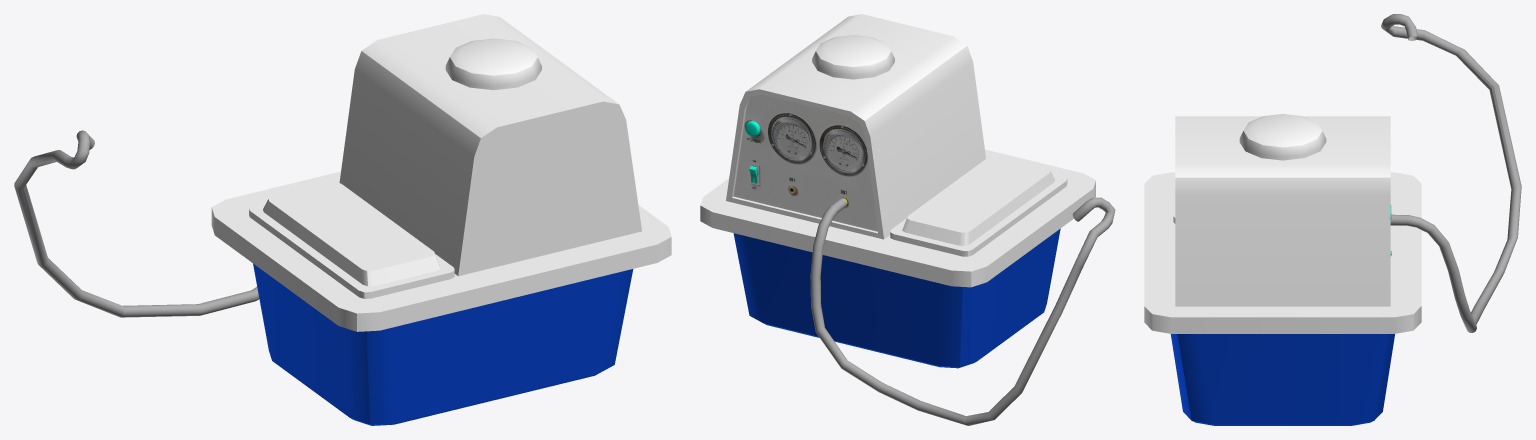
Rendered from beng.fbx.
3 renders of one model, left to right at view 1: azimuth 30°, elevation 25°; view 2: azimuth 150°, elevation 25°; view 3: azimuth 270°, elevation 25°, orthographic. The views are drawn at different scales.
Visible parts, largest first — view 1: beng1, beng4, beng3, gaun2, beng2; view 2: beng1, beng4, beng3, gaun2, beng2; view 3: beng1, beng4, gaun2, beng2.
Boxes of the visible parts, x1,y1,x2,y2 form: beng1: [339, 14, 641, 276]; beng4: [211, 171, 671, 425]; beng3: [249, 182, 454, 298]; gaun2: [14, 130, 259, 317]; beng2: [445, 38, 541, 90]; beng1: [726, 14, 985, 239]; beng4: [700, 149, 1095, 368]; beng3: [890, 156, 1067, 256]; gaun2: [810, 197, 1115, 425]; beng2: [812, 35, 894, 79]; beng1: [1175, 116, 1390, 306]; beng4: [1144, 172, 1421, 425]; gaun2: [1381, 14, 1521, 332]; beng2: [1239, 114, 1326, 160].
Size of the model in its own units: 54.1 by 32.07 by 41.1.
4 materials, 2 textured.
